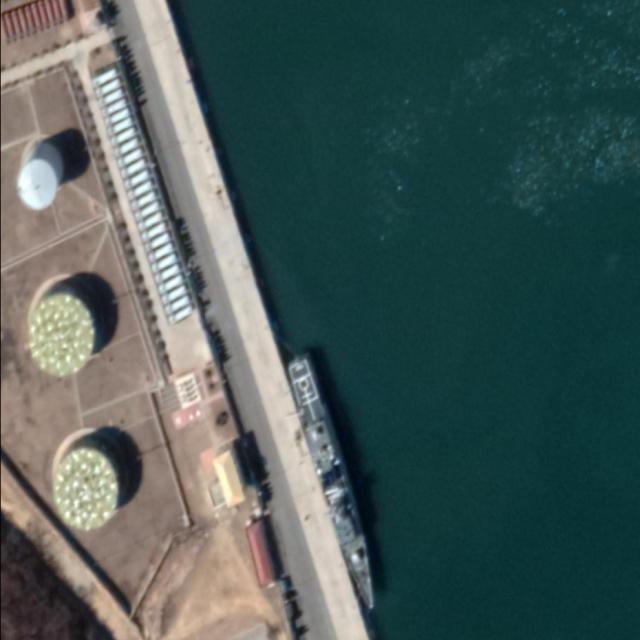Auxiliary Ships: (286, 352, 383, 614)
